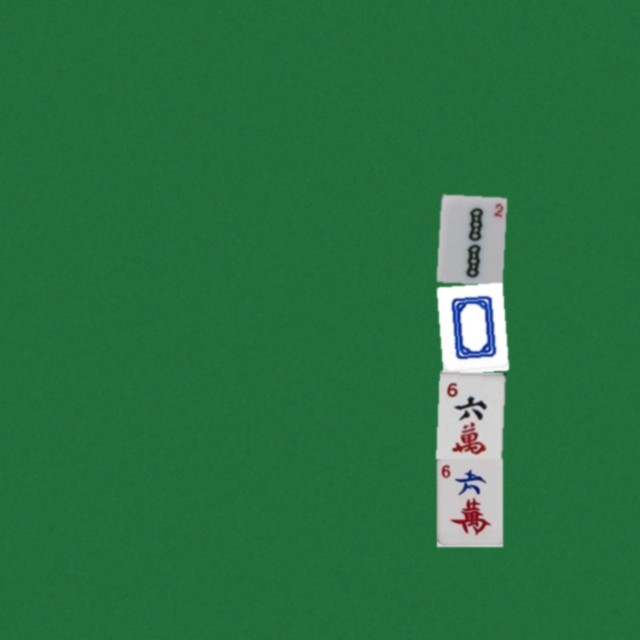tile: (436, 194, 502, 282), (436, 282, 502, 370), (436, 370, 502, 458), (436, 458, 502, 546)
